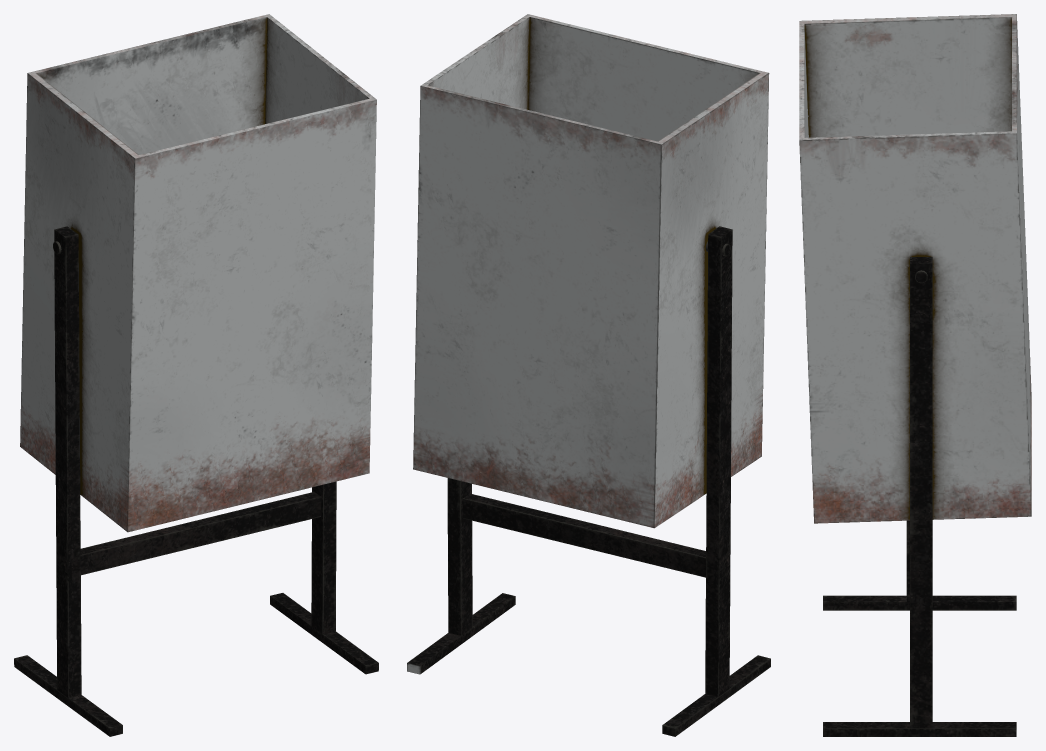
Rendered from Trash_5,1.fbx.
The picture shows the model from 3 angles, left to right: view 1: azimuth 30°, elevation 25°; view 2: azimuth 150°, elevation 25°; view 3: azimuth 270°, elevation 25°; orthographic projection.
Parts seen in each view (by area): view 1: trash_006_LOD0; view 2: trash_006_LOD0; view 3: trash_006_LOD0.
Boxes of the visible parts, box(x1,y1,x2,y2) form: trash_006_LOD0: box(14, 14, 378, 736); trash_006_LOD0: box(407, 14, 770, 736); trash_006_LOD0: box(799, 14, 1031, 736).
Size of what is drawn, in the model's own units: 48.94 by 98.97 by 34.92.
